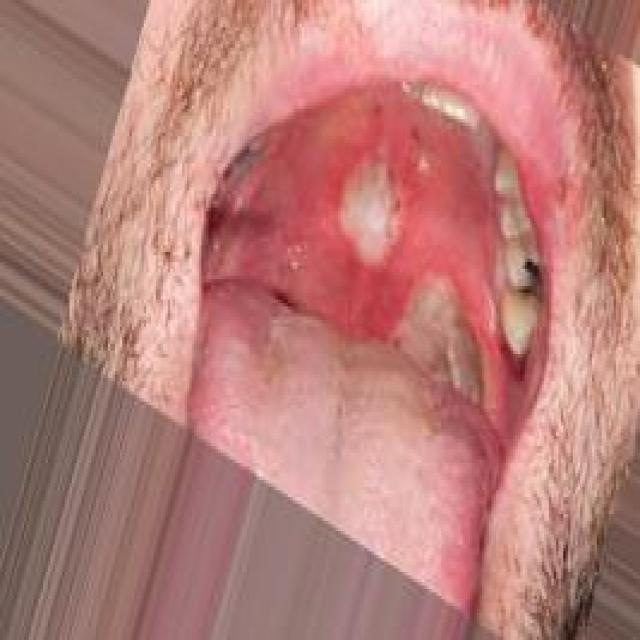caries: (503, 242, 549, 312)
